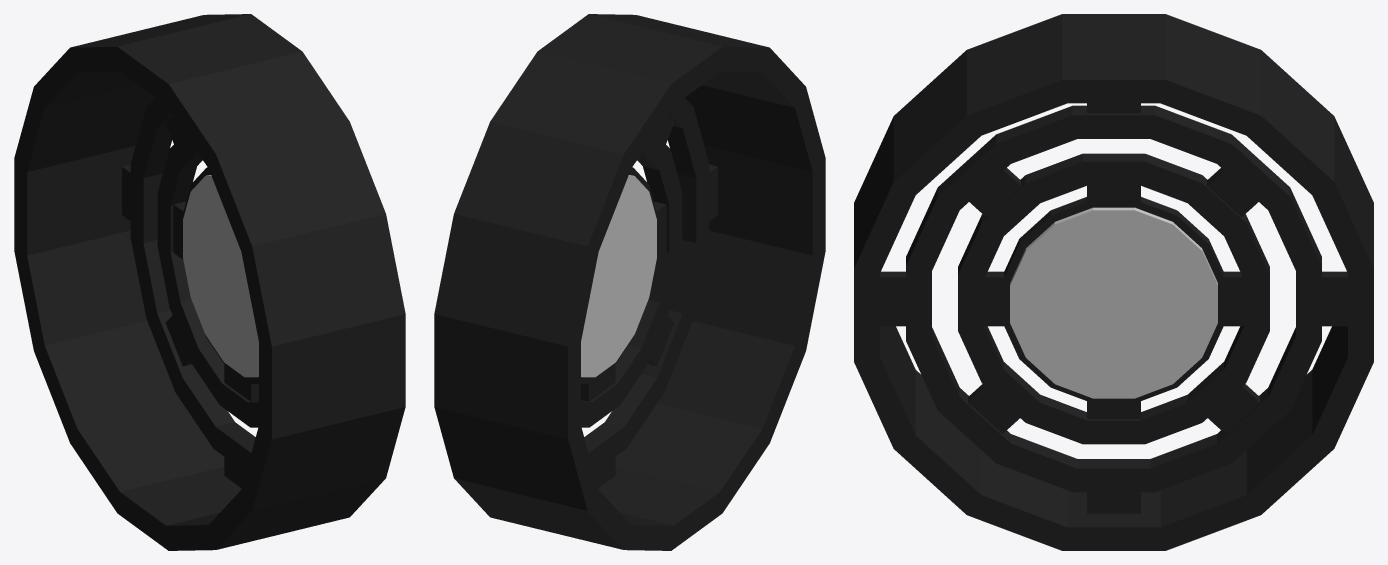
Rendered from rim_futuristic.obj.
3 views of the same model, side by side, from view 1: azimuth 30°, elevation 25°; view 2: azimuth 150°, elevation 25°; view 3: azimuth 270°, elevation 25° (orthographic).
Parts seen in each view (by area): view 1: rim; view 2: rim; view 3: rim.
Part boxes in pixels (x1,y1,x2,y2): rim: (14, 14, 405, 550); rim: (434, 14, 825, 550); rim: (854, 14, 1373, 550).
Size of the model in its own units: 0.1875 by 0.625 by 0.625.
